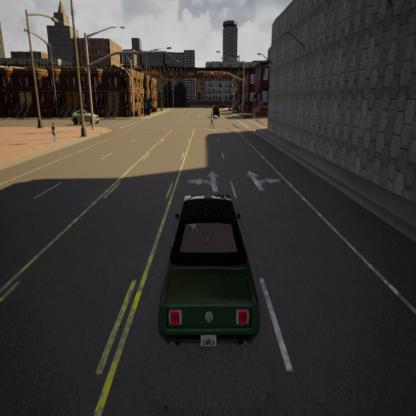Cars: (156, 183, 265, 355), (71, 106, 101, 128), (211, 103, 221, 118)
Pedestrian: (49, 121, 60, 146), (207, 108, 218, 132)
